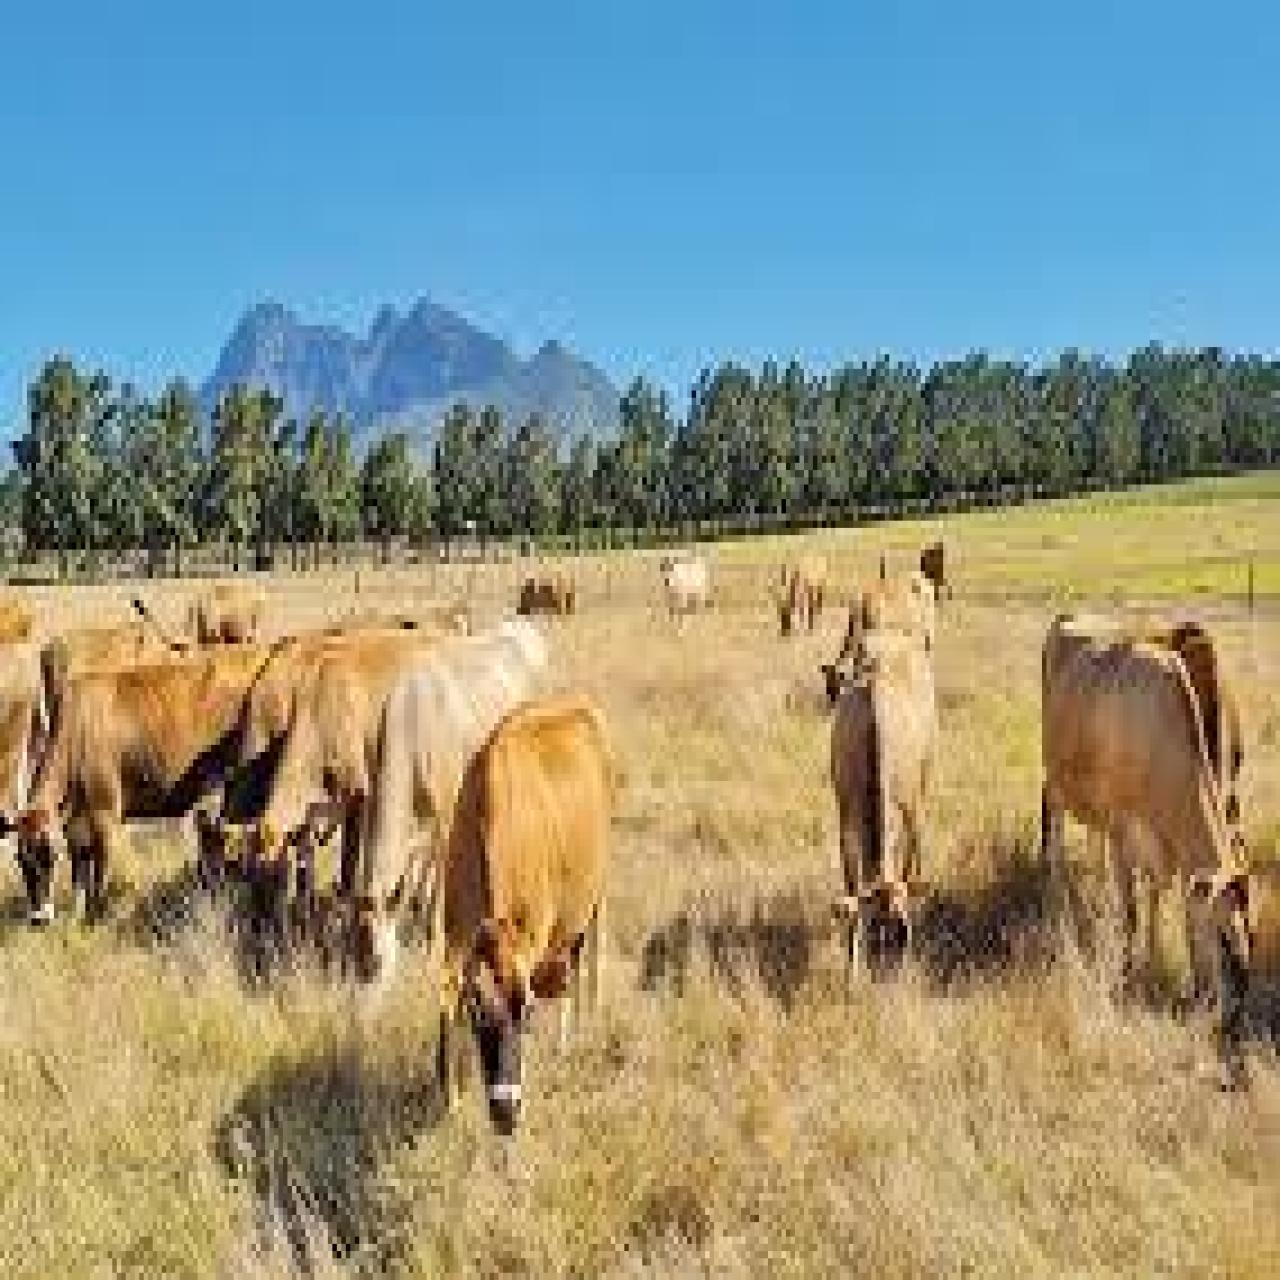cow: (1040, 604, 1255, 1023), (326, 626, 550, 1001), (437, 683, 618, 1132), (0, 654, 256, 937), (826, 673, 934, 983), (846, 576, 932, 662), (182, 574, 267, 647), (763, 557, 826, 636), (658, 546, 716, 626), (515, 564, 577, 622)
